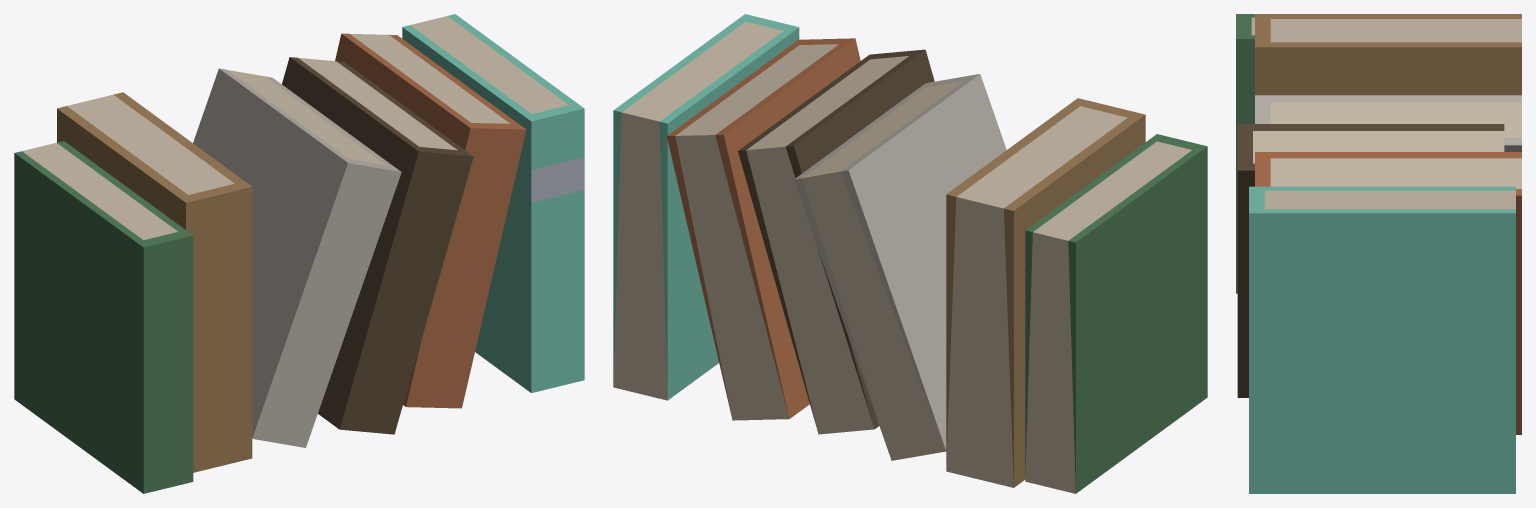
File: SM_Prop_Book_Group_08.fbx
3 renders of one model, left to right at view 1: azimuth 30°, elevation 25°; view 2: azimuth 150°, elevation 25°; view 3: azimuth 270°, elevation 25°, orthographic. The views are drawn at different scales.
Parts seen in each view (by area): view 1: SM_Prop_Book_Group_08; view 2: SM_Prop_Book_Group_08; view 3: SM_Prop_Book_Group_08.
Boxes of the visible parts, <box> form: SM_Prop_Book_Group_08: <box>14,14,584,493</box>; SM_Prop_Book_Group_08: <box>613,14,1207,493</box>; SM_Prop_Book_Group_08: <box>1236,14,1521,493</box>.
Size of the model in its own units: 57.32 by 34.26 by 30.72.
